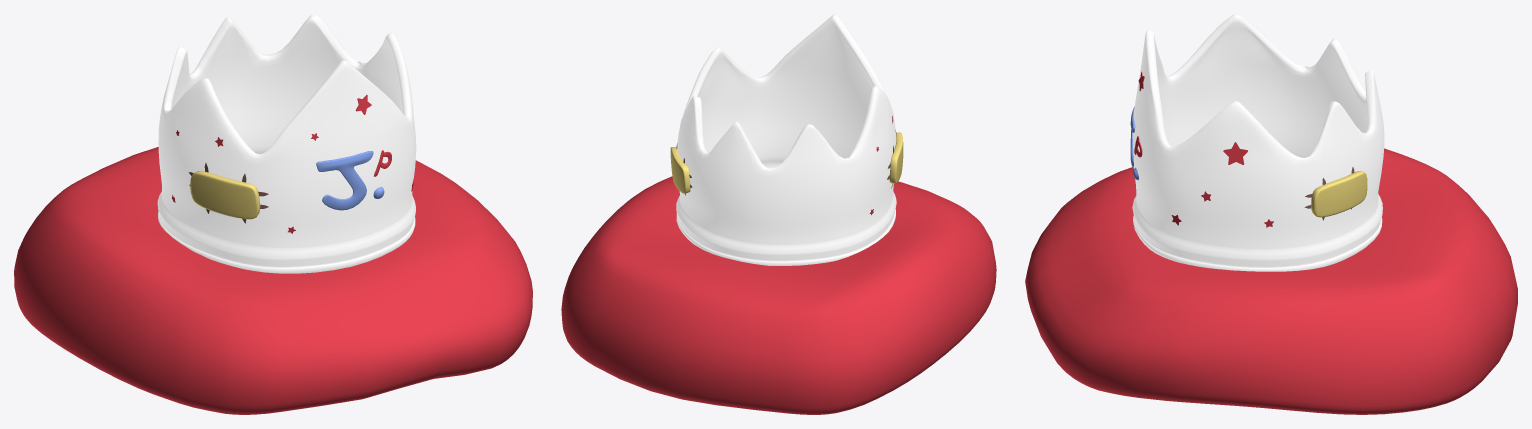
File: CouronneFlatBlender.glb
3 views of the same model, side by side, from view 1: azimuth 30°, elevation 25°; view 2: azimuth 150°, elevation 25°; view 3: azimuth 270°, elevation 25° (orthographic). The views are drawn at different scales.
Visible parts, largest first — view 1: monCoussin, couronneBase; view 2: monCoussin, couronneBase; view 3: monCoussin, couronneBase.
Boxes of the visible parts, x1,y1,x2,y2 form: monCoussin: [14, 147, 532, 414]; couronneBase: [157, 14, 416, 273]; monCoussin: [561, 176, 996, 414]; couronneBase: [670, 14, 903, 265]; monCoussin: [1025, 148, 1517, 414]; couronneBase: [1130, 14, 1384, 271].
Size of the model in its own units: 1.01 by 0.7543 by 1.08.
